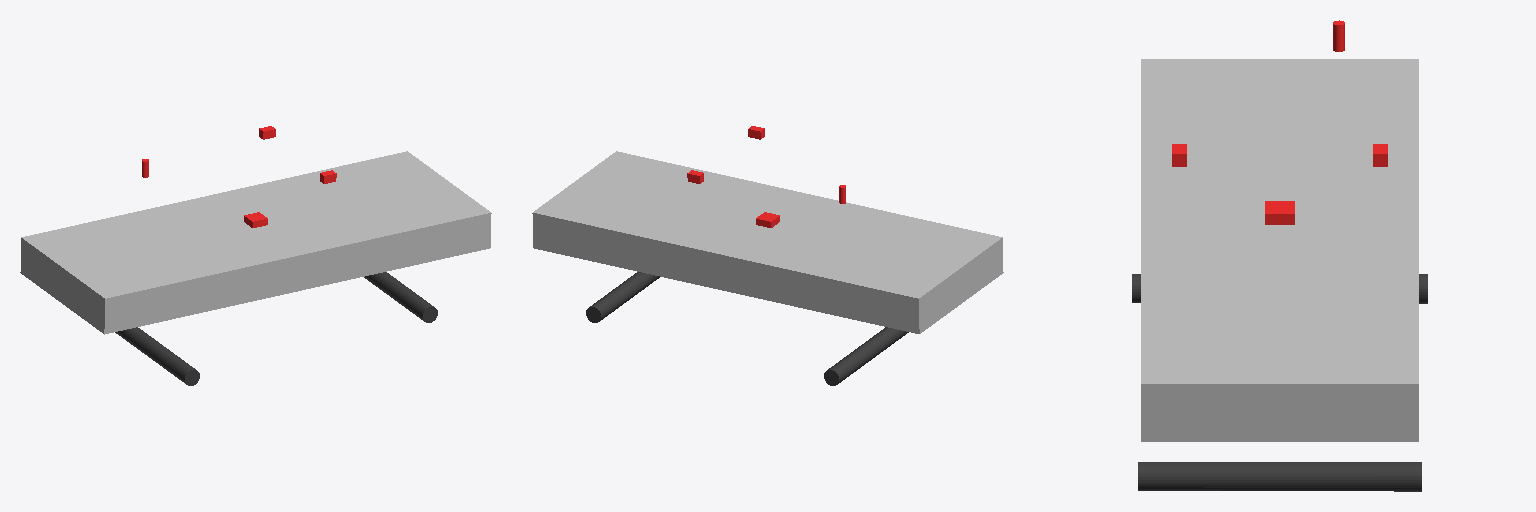
URDF robot description (Chevy):
<?xml version="1.0"?>

<robot name="Chevy">

    <!--   LINKS   -->

    <!--link name="road">
        <visual>
            <geometry>
                <mesh filename="package://assets/meshes/roads_kit.obj" scale="1 1 1"/>
            </geometry>
        </visual>
    </link-->
    
    <link name="body">
        <inertial>
            <origin xyz="0 0 0" rpy="0 0 0" />
            <mass value="1000" />
            <!-- TODO Calculate this correclty. And for lower COM"-->
            <inertia ixx="4166.67" ixy="0" ixz="0" iyy="10416.67" iyz="0" izz="10416.67" />
        </inertial>
        <visual>
            <origin xyz="7.25 -2.45 0" rpy="0 0 1.57" />
            <geometry>
                <mesh filename="package://assets/meshes/body_all.dae"/>
            </geometry>
        </visual>
        <collision name="body_bounding_box">
            <origin xyz="0 0 0.05" rpy="0 0 0" />
            <geometry>
                <box size="13.2 5.7 5.3" />
            </geometry>
        </collision>
    </link>

    <link name="grill">
        <visual>
            <origin xyz="-0.20 0.65 -0.55" rpy="0 0 1.57"/>
            <geometry>
                <mesh filename="package://assets/meshes/front.dae"/>
            </geometry>
        </visual>
    </link>

    <link name="floor">
        <!-- TODO make most of vehicle mass be in here? -->
        <visual>
            <geometry>
                <box size="12.5 4.7 1.10"/>
            </geometry>
            <material name="grey">
                <color rgba="0.8 0.8 0.8 1"/>
            </material>
        </visual>
    </link>

    <link name="camera_1">
        <visual>
            <geometry>
                <box size="0.4 0.25 0.25"/>
            </geometry>
            <material name="red">
                <color rgba="1.0 0.2 0.2 1"/>
            </material>
        </visual>
    </link>
    
    <link name="camera_2">
        <visual>
            <geometry>
                <box size="0.4 0.25 0.25"/>
            </geometry>
            <material name="red">
                <color rgba="1.0 0.2 0.2 1"/>
            </material>
        </visual>
    </link>
    
    <link name="gps">
        <visual>
            <geometry>
                <cylinder radius="0.1" length="0.5"/>
            </geometry>
            <material name="red">
                <color rgba="1.0 0.2 0.2 1"/>
            </material>
        </visual>
    </link>
    
    <link name="imu">
        <visual>
            <geometry>
                <box size="0.5 0.5 0.2"/>
            </geometry>
            <material name="red">
                <color rgba="1.0 0.2 0.2 1"/>
            </material>
        </visual>
    </link>

    <link name="front_axle_mount"/>

    <link name="front_axle">
        <visual>
            <geometry>
                <cylinder radius="0.25" length="4.6"/>
            </geometry>
            <material name="grey">
                <color rgba="0.3 0.3 0.3 1"/>
            </material>
        </visual>
        <inertial>
            <origin xyz="0 0 0" rpy="0 0 0"/>
            <mass value="8.0"/>
            <!--inertia ixx=iyy=1/12 * m * ( 3r^2 + h^2) izz=1/2*m*r^2     -->
            <inertia ixx="14.2316666667" iyy="14.2316666667" ixy="0.0" ixz="0.0" izz="0.25" iyz="0.0"/>
        </inertial>
    </link>
    
    <link name="rear_axle_mount"/>

    <link name="rear_axle">
        <visual>
            <geometry>
                <cylinder radius="0.25" length="5.0"/>
            </geometry>
            <material name="grey">
                <color rgba="0.3 0.3 0.3 1"/>
            </material>
        </visual>
        <inertial>
            <origin xyz="0 0 0" rpy="0 0 0"/>
            <mass value="10.0"/>
            <!--inertia ixx=iyy=1/12 * m * ( 3r^2 + h^2) izz=1/2*m*r^2     -->
            <inertia ixx="20.9895833333" iyy="20.9895833333" ixy="0.0" ixz="0.0" izz="0.3125" iyz="0.0"/>
        </inertial>
    </link>

    <link name="front_left_steering_linkage">
        <visual>
            <geometry>
                <cylinder radius="0.25" length="0.2"/>
            </geometry>
            <material name="grey">
                <color rgba="0.3 0.3 0.3 1"/>
            </material>
        </visual>
        <inertial>
            <origin xyz="0 0 0" rpy="0 0 0"/>
            <mass value="1.0"/>
            <!--inertia ixx=iyy=1/12 * m * ( 3r^2 + h^2) izz=1/2*m*r^2     -->
            <inertia ixx="0.01895833333" iyy="0.01895833333" ixy="0.0" ixz="0.0" izz="0.02" iyz="0.0"/>
        </inertial>
    </link>
    <link name="front_right_steering_linkage">
        <visual>
            <geometry>
                <cylinder radius="0.25" length="0.2"/>
            </geometry>
            <material name="grey">
                <color rgba="0.3 0.3 0.3 1"/>
            </material>
        </visual>
        <inertial>
            <origin xyz="0 0 0" rpy="0 0 0"/>
            <mass value="1.0"/>
            <!--inertia ixx=iyy=1/12 * m * ( 3r^2 + h^2) izz=1/2*m*r^2     -->
            <inertia ixx="0.01895833333" iyy="0.01895833333" ixy="0.0" ixz="0.0" izz="0.02" iyz="0.0"/>
        </inertial>
    </link>

    <link name="wheel_front_left">
        <inertial>
            <origin xyz="0 0 0" rpy="0 0 0" />
            <mass value="30" />
            <inertia ixx="10.4812" ixy="0" ixz="0" iyy="10.48125" iyz="0" izz="18.15" />
        </inertial>
        <visual>
            <origin xyz="0 0 0" rpy="1.57 0 0" />
            <geometry>
                <mesh filename="package://assets/meshes/wheel.obj" scale="0.107 0.107 0.107"/>
                <!--<cylinder length="0.75" radius="1.1" />-->
            </geometry>
            <material name="black">
                <color rgba="0.2 0.2 0.21 1" />
            </material>
        </visual>
    </link>

    <link name="wheel_front_right">
        <inertial>
            <origin xyz="0 0 0" rpy="0 0 0" />
            <mass value="30" />
            <inertia ixx="10.4812" ixy="0" ixz="0" iyy="10.48125" iyz="0" izz="18.15" />
        </inertial>
        <visual>
            <origin xyz="0 0 0" rpy="1.57 0 0" />
            <geometry>
                <mesh filename="package://assets/meshes/wheel.obj" scale="0.107 0.107 0.107"/>
                <!--<cylinder length="0.75" radius="1.1" />-->
            </geometry>
            <material name="black">
                <color rgba="0.2 0.2 0.21 1" />
            </material>
        </visual>
    </link>

    <link name="wheel_rear_left">
        <inertial>
            <origin xyz="0 0 0" rpy="0 0 0" />
            <mass value="30" />
            <inertia ixx="10.4812" ixy="0" ixz="0" iyy="10.48125" iyz="0" izz="18.15" />
        </inertial>
        <visual>
            <origin xyz="0 0 0" rpy="1.57 0 0" />
            <geometry>
                <mesh filename="package://assets/meshes/wheel.obj" scale="0.107 0.107 0.107"/>
                <!--<cylinder length="0.75" radius="1.1" />-->
            </geometry>
            <material name="black">
                <color rgba="0.2 0.2 0.21 1" />
            </material>
        </visual>
    </link>

    <link name="wheel_rear_right">
        <inertial>
            <origin xyz="0 0 0" rpy="0 0 0" />
            <mass value="30" />
            <inertia ixx="10.4812" ixy="0" ixz="0" iyy="10.48125" iyz="0" izz="18.15" />
        </inertial>
        <visual>
            <origin xyz="0 0 0" rpy="1.57 0 0" />
            <geometry>
                <mesh filename="package://assets/meshes/wheel.obj" scale="0.107 0.107 0.107"/>
                <!--<cylinder length="0.75" radius="1.1" />-->
            </geometry>
            <material name="black">
                <color rgba="0.2 0.2 0.21 1" />
            </material>
        </visual>
    </link>

    <!--   JOINTS  -->

    <!--joint name="world_to_road" type="fixed">
        <parent link="world" />
        <child link="road" />
        <origin xyz="0 -150 0" rpy="1.57 0 0"/>
    </joint-->
    
    <joint name="body_to_grill" type="fixed">
        <parent link="body"/>
        <child link="grill"/>
        <origin xyz="7 0 0"/>
    </joint>
    
    <joint name="body_to_floor" type="fixed">
        <parent link="body"/>
        <child link="floor"/>
        <origin xyz="0 0 0.0" rpy="0 0.02 0"/>
    </joint>
    
    <joint name="body_to_camera_1" type="fixed">
        <parent link="body"/>
        <child link="camera_1"/>
        <origin xyz="1.35 1.7 2.4" rpy="0 0.02 0"/>
    </joint>
    
    <joint name="body_to_camera_2" type="fixed">
        <parent link="body"/>
        <child link="camera_2"/>
        <origin xyz="1.35 -1.7 2.4" rpy="0 0.02 0"/>
    </joint>
    
    <joint name="body_to_gps" type="fixed">
        <parent link="body"/>
        <child link="gps"/>
        <origin xyz="-3.0 1.0 2.6" rpy="0 0 0"/>
    </joint>
    
    <joint name="body_to_imu" type="fixed">
        <parent link="body"/>
        <child link="imu"/>
        <origin xyz="0 0 0.7" rpy="0 0.02 0"/>
    </joint>
    
    <joint name="body_to_front_axle_mount" type="prismatic">
        <parent link="body"/>
        <child link="front_axle_mount"/>
        <origin xyz="4.25 0 -2.25" rpy="0 0 0"/>
        <axis xyz="0 0 1"/>
    </joint>

    <joint name="body_to_rear_axle_mount" type="prismatic">
        <parent link="body"/>
        <child link="rear_axle_mount"/>
        <origin xyz="-3.5 0 -2.35" rpy="0 0 0"/>
        <axis xyz="0 0 1.0"/>
    </joint>

    <joint name="mount_to_front_axle" type="revolute">
        <parent link="front_axle_mount"/>
        <child link="front_axle"/>
        <origin xyz="0 0 0" rpy="1.57 0 0"/>
        <axis xyz="1 0 0"/>
        <limit lower="-0.4" upper="0.4"/>
    </joint>

    <joint name="mount_to_rear_axle" type="revolute">
        <parent link="rear_axle_mount"/>
        <child link="rear_axle"/>
        <origin xyz="0 0 0" rpy="1.57 0 0"/>
        <axis xyz="1 0 0"/>
        <limit lower="-0.4" upper="0.4"/>
    </joint>
    
    <joint name="front_axle_to_left_linkage" type="revolute">
        <parent link="front_axle"/>
        <child link="front_left_steering_linkage"/>
        <origin xyz="0 0 2.3" rpy="0 0 0"/>
        <axis xyz="0 1 0"/>
        <limit lower="-0.6" upper="0.6"/>
    </joint>

    <joint name="front_axle_to_right_linkage" type="revolute">
        <parent link="front_axle"/>
        <child link="front_right_steering_linkage"/>
        <origin xyz="0 0 -2.3" rpy="0 0 0"/>
        <axis xyz="0 1 0"/>
        <limit lower="-0.6" upper="0.6"/>
    </joint>

    <joint name="front_linkage_to_left_wheel" type="continuous">
        <parent link="front_left_steering_linkage" />
        <child link="wheel_front_left" />
        <origin xyz="0 0 0.2" rpy="0 0 0"/>
        <axis xyz="0 0 1" />
    </joint>

    <joint name="front_linkage_to_right_wheel" type="continuous">
        <parent link="front_right_steering_linkage" />
        <child link="wheel_front_right" />
        <origin xyz="0 0 -0.2" rpy="0 0 0"/>
        <axis xyz="0 0 1" />
    </joint>

    <joint name="rear_axle_to_left_wheel" type="continuous">
        <parent link="rear_axle" />
        <child link="wheel_rear_left" />
        <origin xyz="0 0 2.5" rpy="0 0 0"/>
        <axis xyz="0 0 1" />
    </joint>

    <joint name="rear_axle_to_right_wheel" type="continuous">
        <parent link="rear_axle" />
        <child link="wheel_rear_right" />
        <origin xyz="0 0 -2.5" rpy="0 0 0"/>
        <axis xyz="0 0 1" />
    </joint>
</robot>

--- Render facts (derived) ---
The picture shows the robot from 3 angles, left to right: view 1: azimuth 30°, elevation 25°; view 2: azimuth 150°, elevation 25°; view 3: azimuth 270°, elevation 25°; orthographic projection.
Model Chevy with 17 links and 16 joints (4 revolute, 4 continuous, 2 prismatic, 6 fixed), rooted at body, posed every joint at zero.
Visible links, largest first — view 1: floor, rear_axle, front_axle; view 2: floor, rear_axle, front_axle; view 3: floor, front_axle, imu, rear_axle.
Boxes of the visible links, x1=… form: floor: x1=20, y1=151, x2=491, y2=334; rear_axle: x1=115, y1=327, x2=199, y2=385; front_axle: x1=364, y1=272, x2=430, y2=319; floor: x1=532, y1=151, x2=1003, y2=333; rear_axle: x1=824, y1=327, x2=908, y2=385; front_axle: x1=592, y1=272, x2=659, y2=317; floor: x1=1141, y1=59, x2=1418, y2=441; front_axle: x1=1144, y1=462, x2=1415, y2=491; imu: x1=1265, y1=201, x2=1294, y2=224; rear_axle: x1=1132, y1=274, x2=1427, y2=303.
Size in the robot's own frame: 12.52 by 5 by 5.45 metres.
Meshes: 3 distinct files referenced, 0 mesh visuals loaded (none loaded); not drawn: 4 (reference not matched to a file when rendering), 2 (file found but could not be loaded).